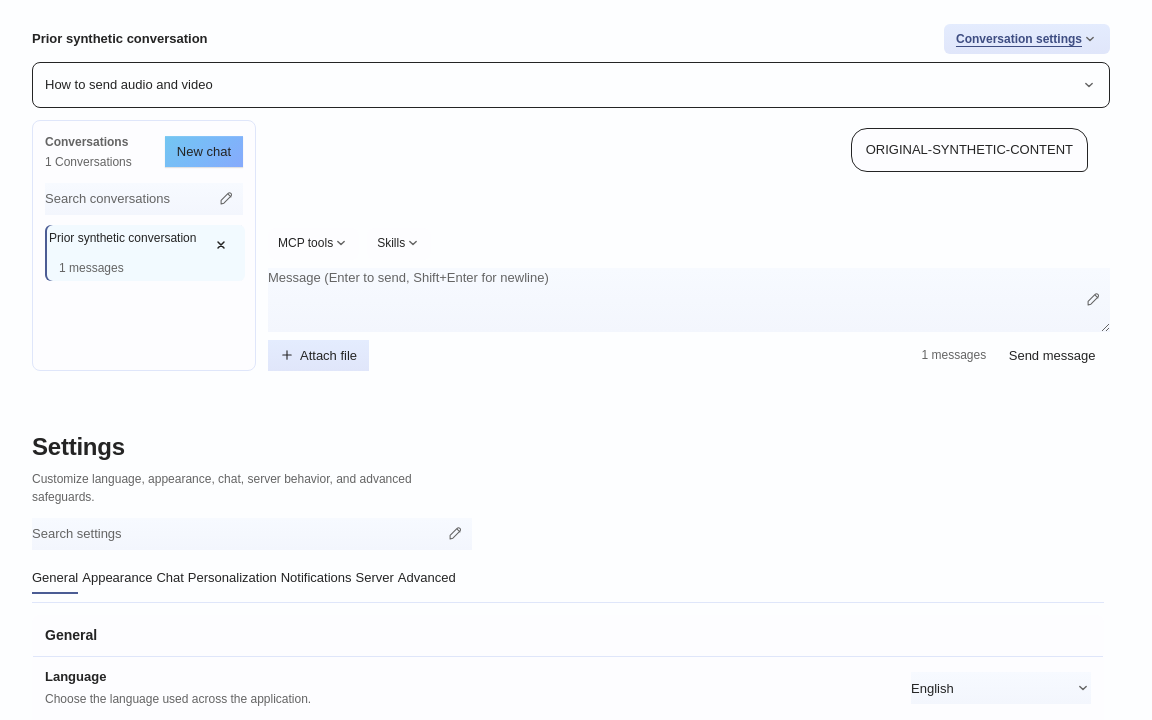
Test case: clears the mounted chat and does not restore removed conversations on its next save
Expected: the text "ORIGINAL-SYNTHETIC-CONTENT" is shown, left=866, top=138, right=1073, bottom=161
Click the tab "Advanced" at (427, 578), box left=398, top=562, right=456, bottom=594
(page scrolled)
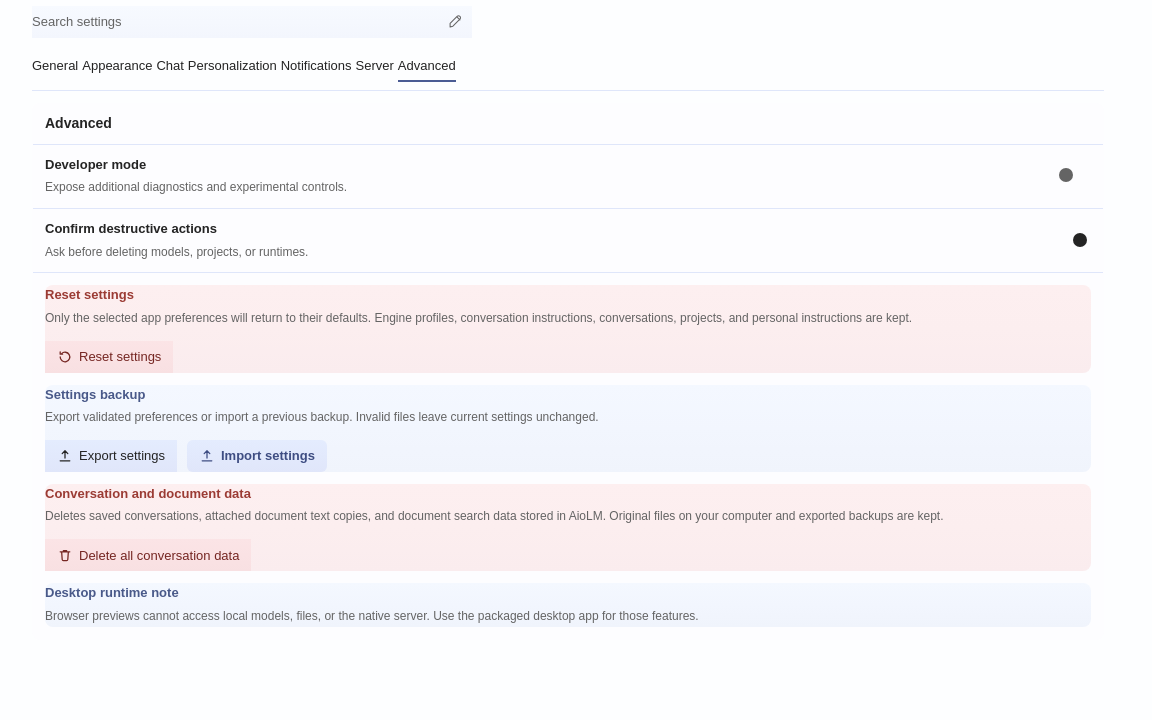
Expected: the text "Deletes saved conversations, attached document text copies, and document search data stored in AioLM. Original files on " is shown, left=45, top=510, right=944, bottom=524
Click the button "Delete all conversation data" at (148, 555), box left=45, top=539, right=251, bottom=571
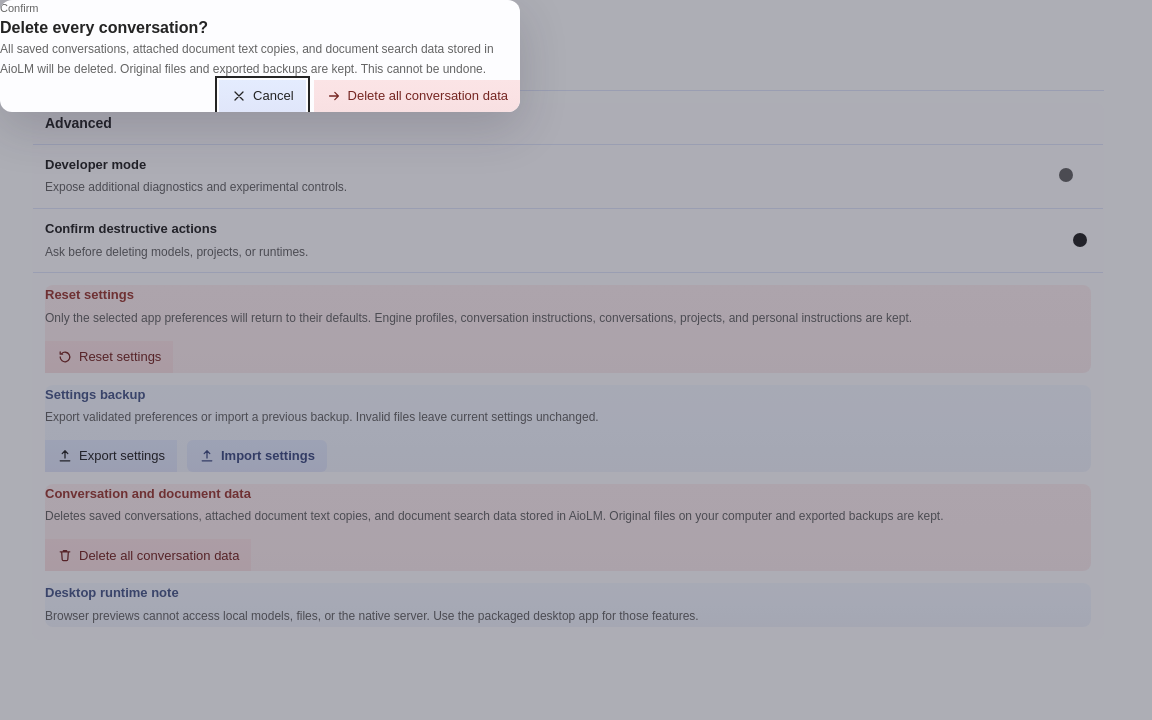
Expected: the dialog "Delete every conversation?" shows "All saved conversations, attached document text copies, and document search data stored in AioLM will be deleted. Original files and exported backups are kept.", left=0, top=42, right=494, bottom=76
Click the button "Delete all conversation data" at (417, 96), box left=314, top=80, right=520, bottom=112
(page scrolled)
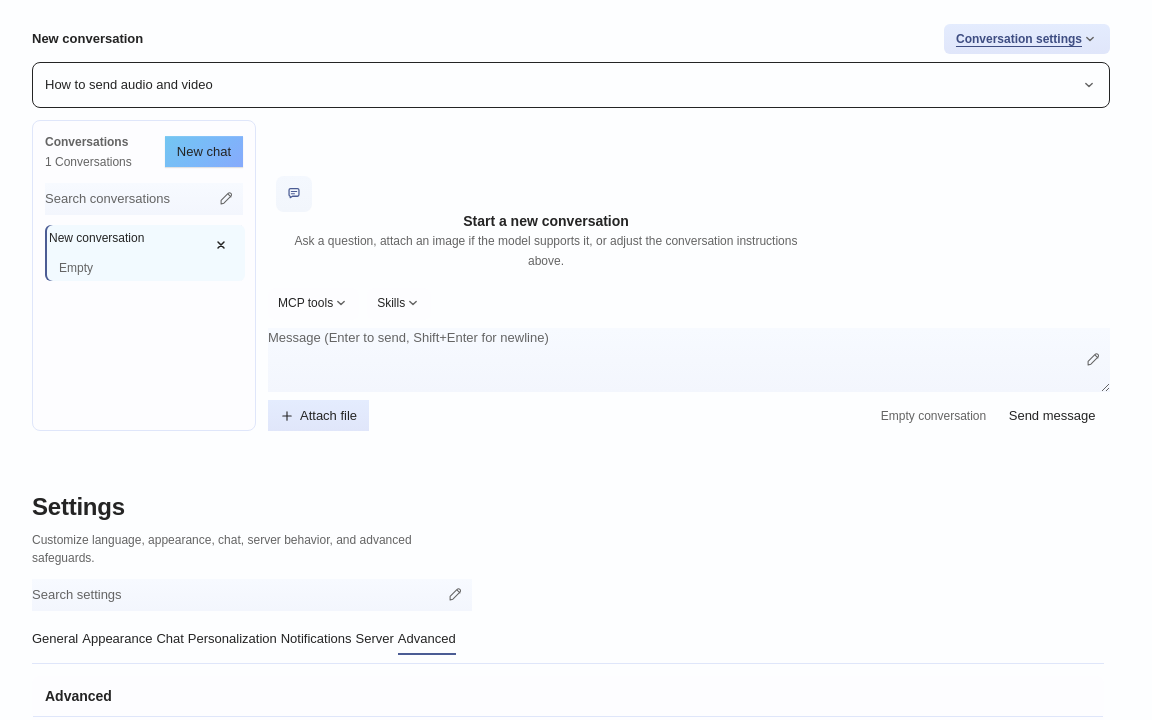
Type "New conversation after removal" into the text box named "Chat message" at (689, 360), box left=268, top=328, right=1110, bottom=392
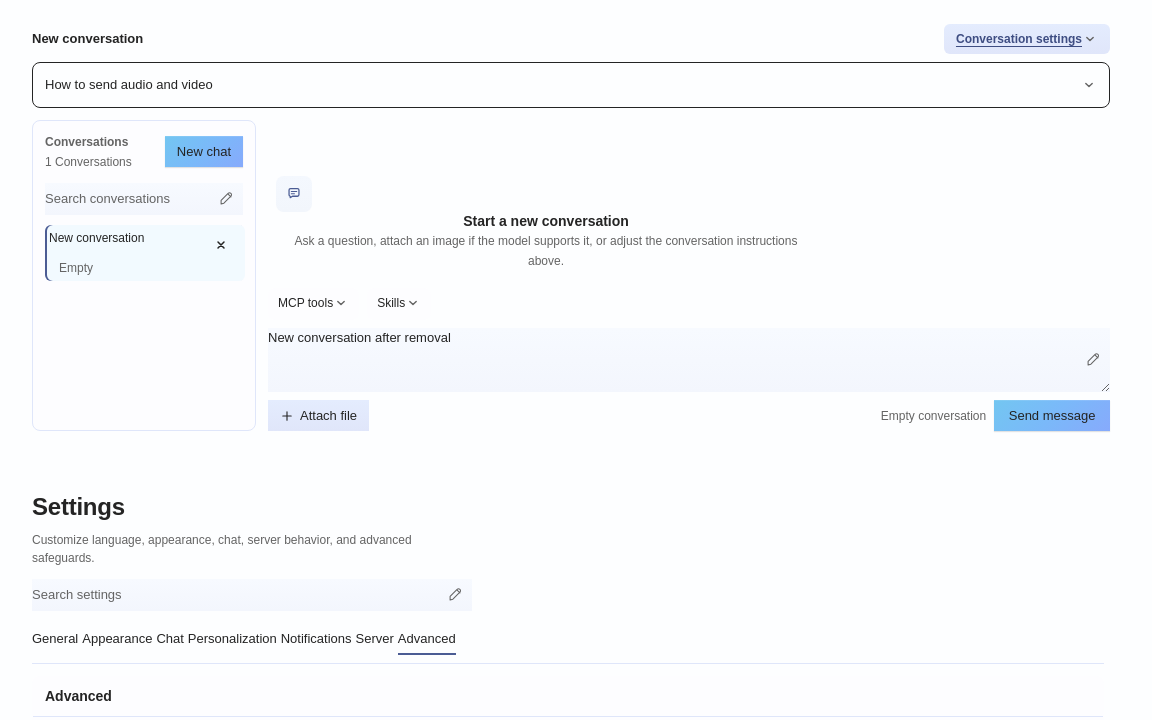
Click the button named "Send message" at (1052, 416), box left=994, top=400, right=1110, bottom=431
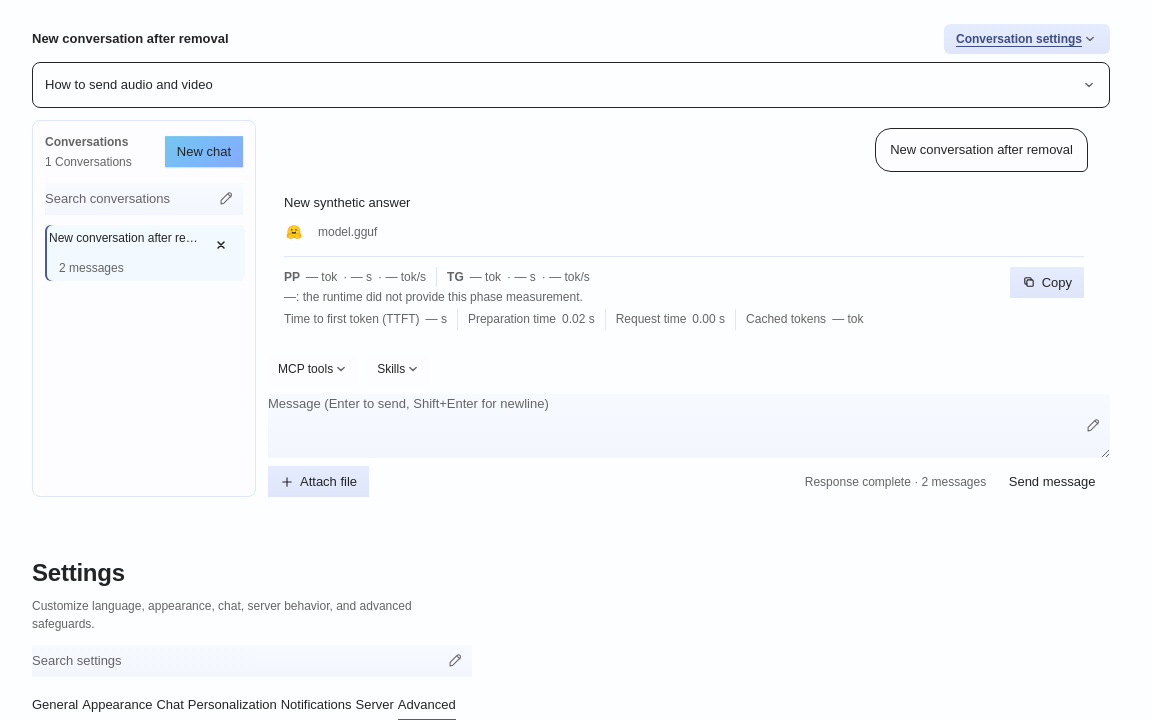
Expected: the text "New synthetic answer" is shown, left=284, top=195, right=410, bottom=210
